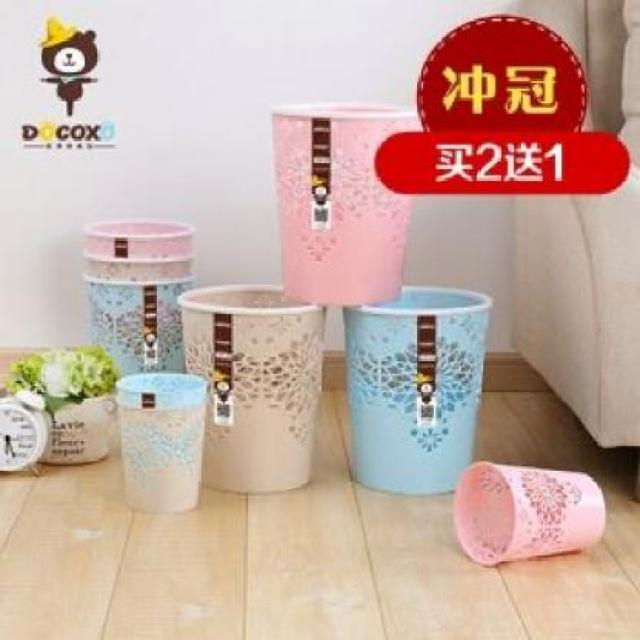dustbin: (268, 97, 430, 308), (343, 284, 497, 498), (177, 280, 328, 496), (83, 217, 201, 385), (451, 457, 609, 571), (113, 371, 210, 516)
